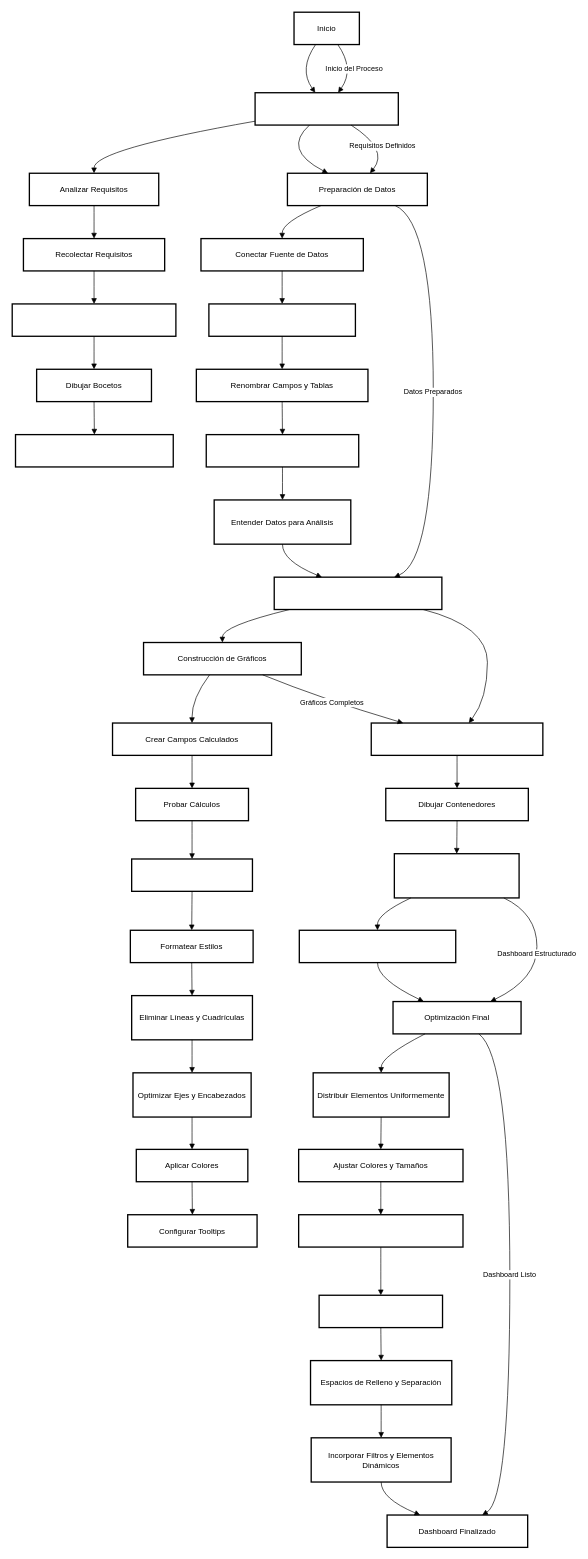
The diagram is 588 pixels wide and 1559 high, and some of its shapes have lost their labels. Here are the shapes that lost their labels. From the top down, the centre of each, then its label:
point 326,108: Análisis y Preparación
point 93,320: Elegir Gráficos Apropiados
point 282,320: Crear Modelo de Datos
point 94,450: Definir Paleta de Colores
point 282,450: Verificar Tipos de Datos
point 357,593: Construcción de Dashboard
point 456,739: Estructura de Contenedores
point 192,875: Construir Gráfico
point 456,875: Añadir Gráficos al Dashboard
point 377,946: Aplicar Formato General
point 380,1230: Configurar Vista Completa
point 380,1311: Agregar Leyendas
